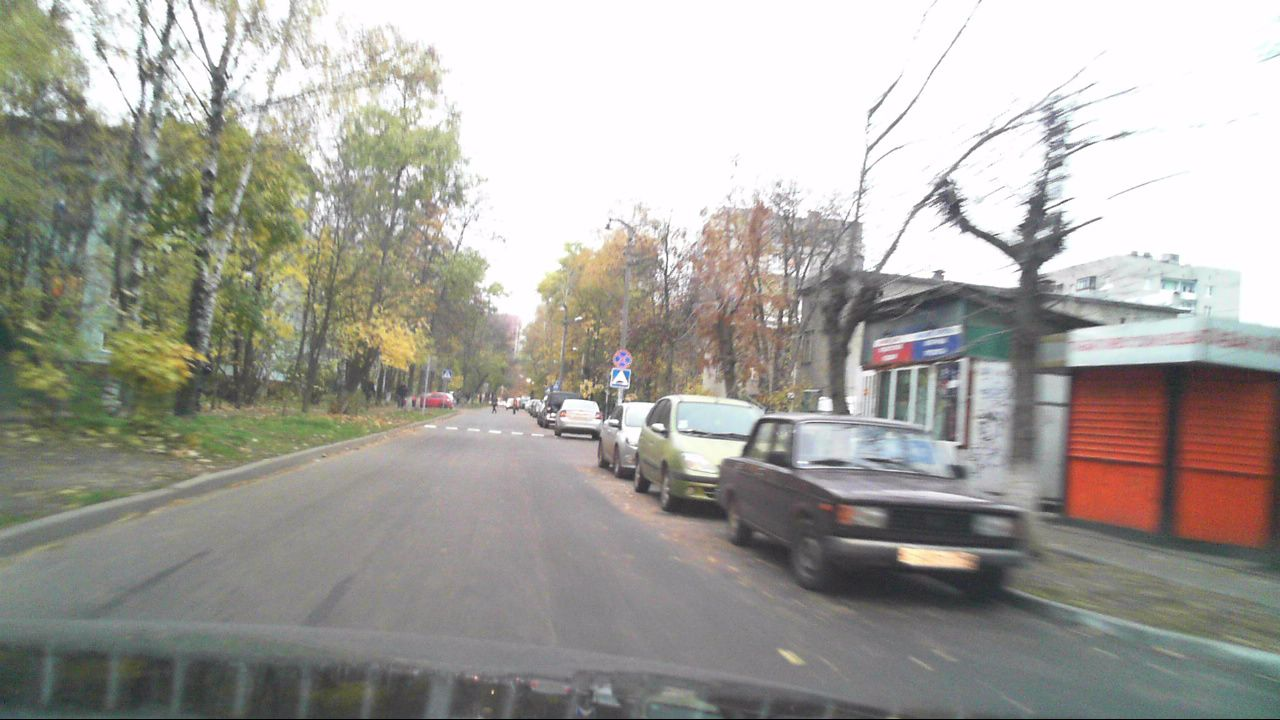No Parking: (612, 349, 632, 368)
